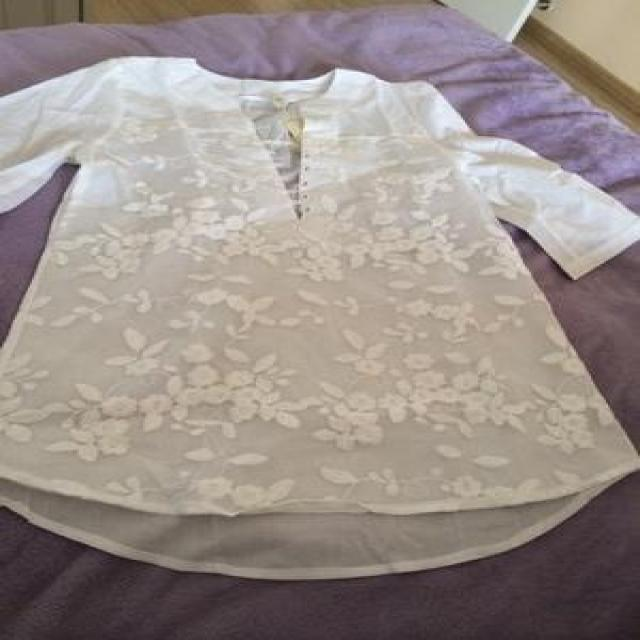long sleeve dress: (4, 59, 638, 578)
